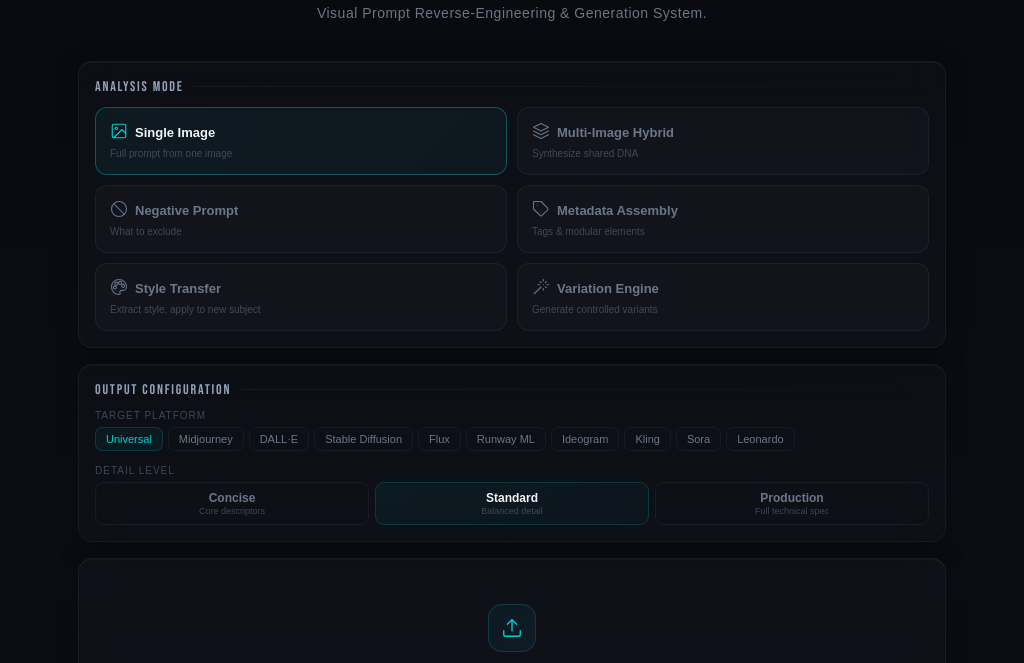
it: App › shows subject input when style-transfer mode selected
Click the text "Style Transfer": (178, 288) [135, 281, 221, 296]
(page scrolled)
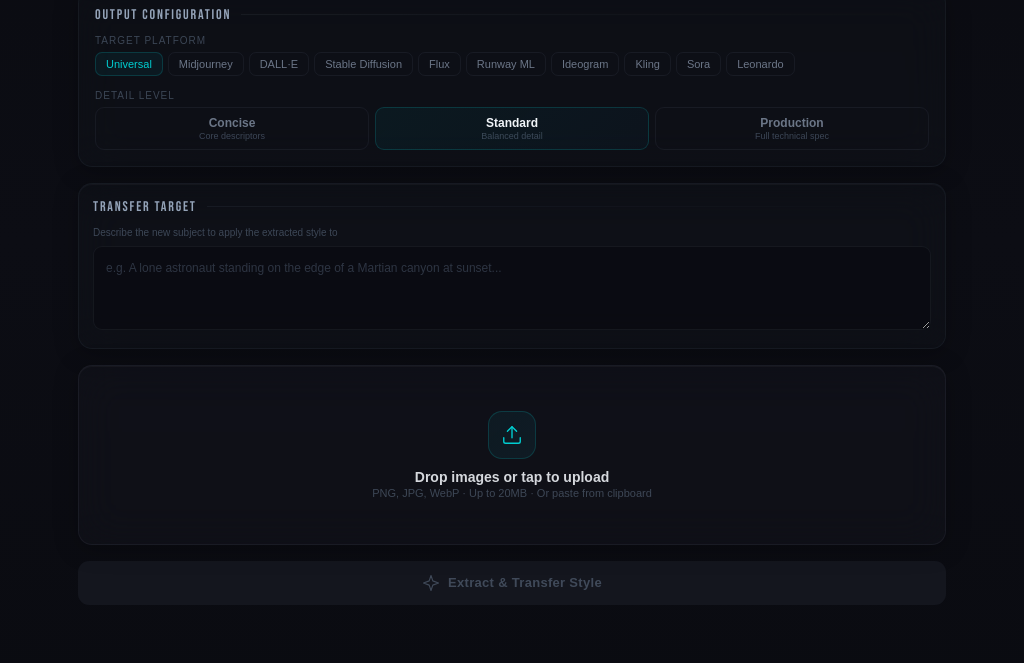
Expected: the text box named "Style transfer target subject" is shown, [93, 246, 931, 330]
